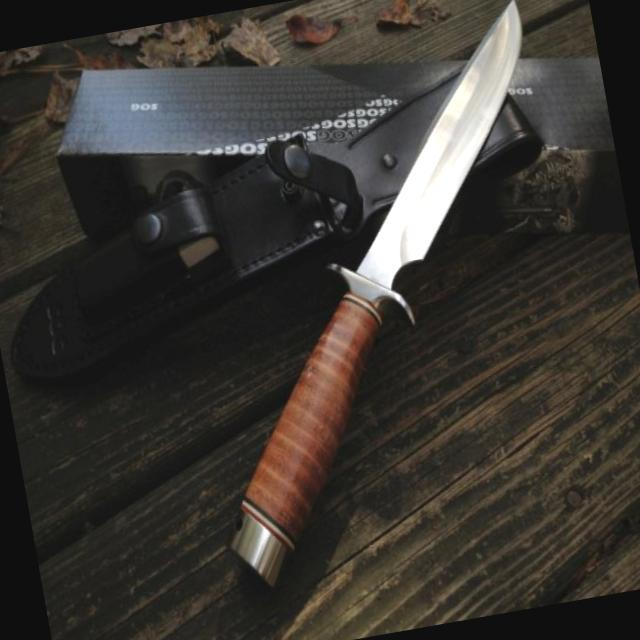knife: (315, 0, 575, 291)
